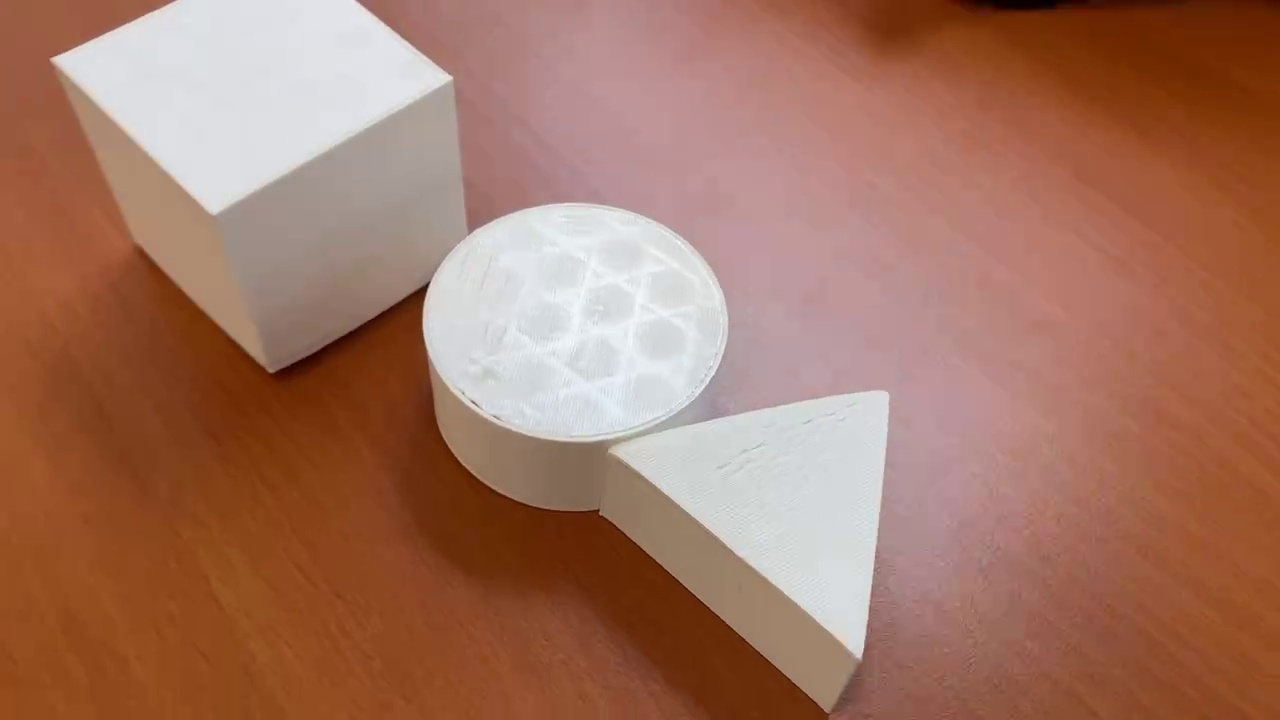Cube: (48, 2, 475, 374)
Cylinder_short: (419, 200, 728, 514)
Triangle_short: (598, 387, 888, 715)
